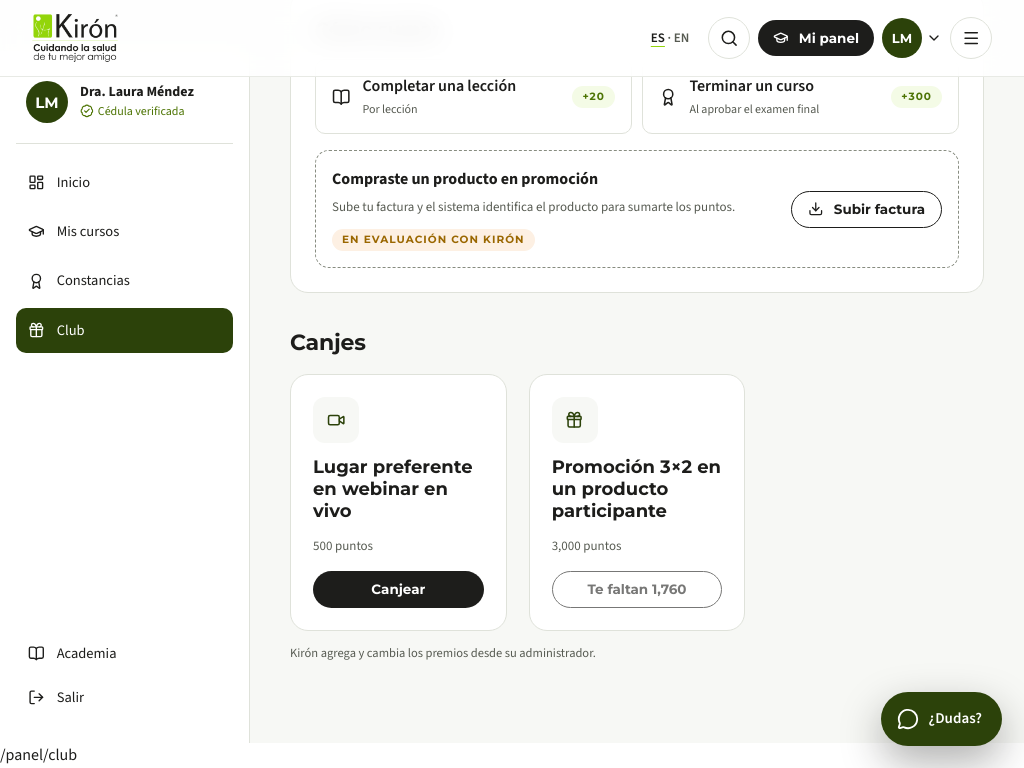
Scenario: Club MVZ › canjea un premio con la API y actualiza el saldo
(page scrolled)
Expected: the button "Te faltan 1,760" is disabled, x1=552 y1=571 x2=722 y2=608
Click the button "Canjear": (398, 589) x1=313 y1=571 x2=484 y2=608
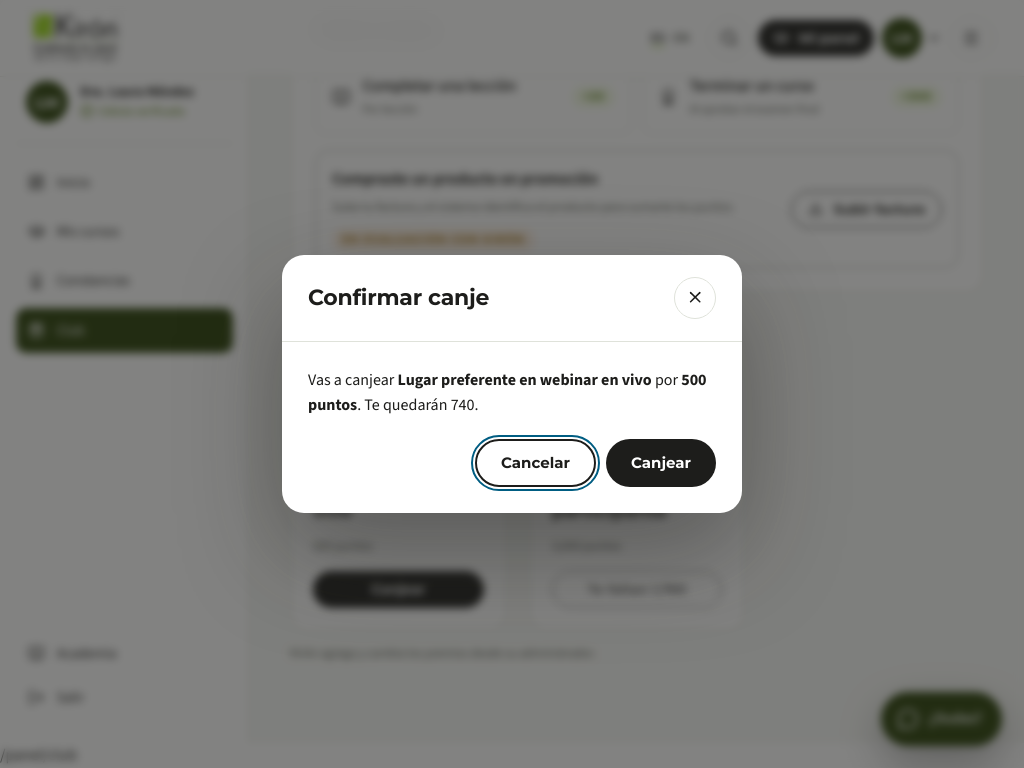
Expected: the dialog "Confirmar canje" shows "Te quedarán 740.", x1=364 y1=394 x2=478 y2=416
Click the button "Canjear": (661, 463) x1=606 y1=439 x2=716 y2=488
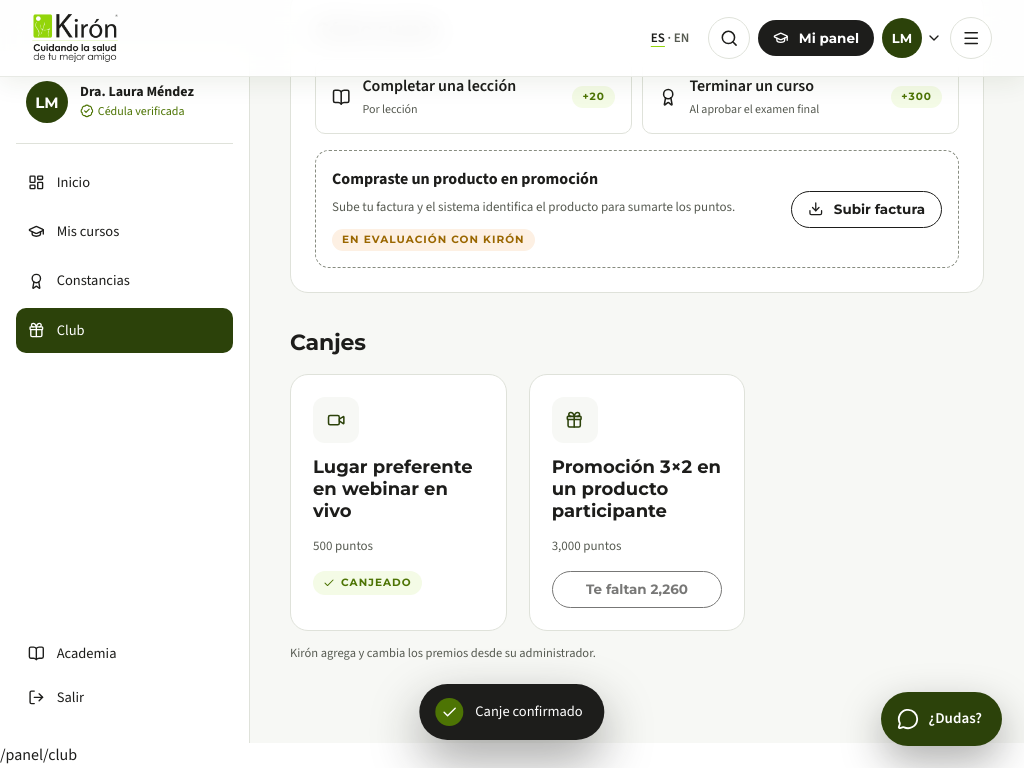
Expected: the text "Canjeado" is shown, x1=313 y1=571 x2=422 y2=595
